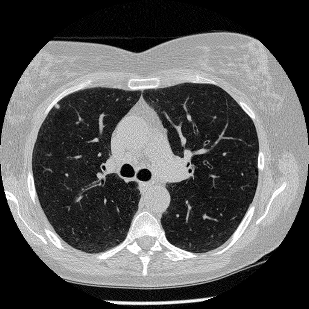nodule: (55, 104, 59, 108)
